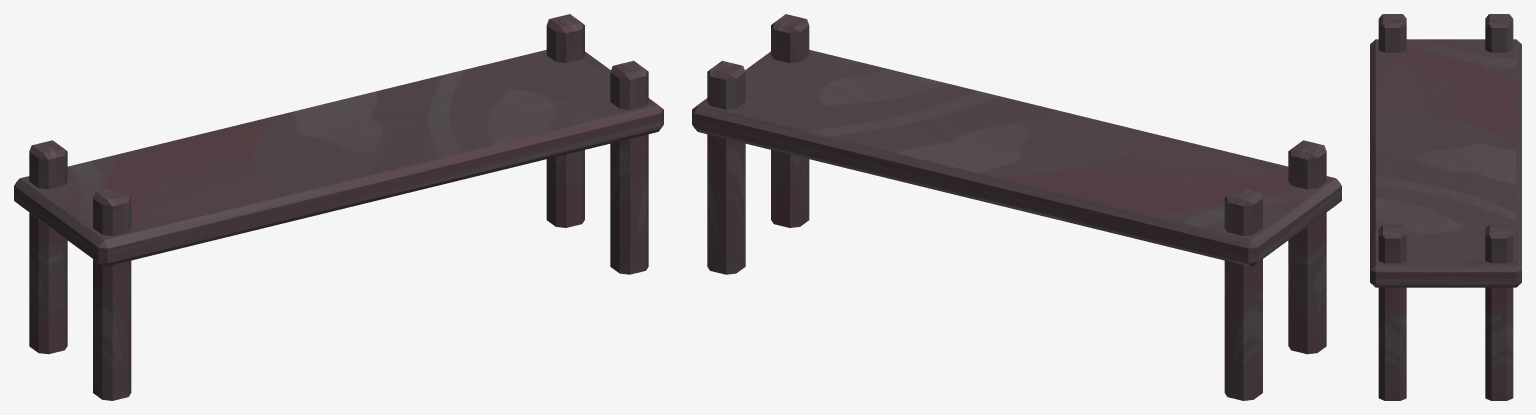
The model's file is Platform_Basic.fbx.
The picture shows the model from 3 angles, left to right: view 1: azimuth 30°, elevation 25°; view 2: azimuth 150°, elevation 25°; view 3: azimuth 270°, elevation 25°; orthographic projection. The views are drawn at different scales.
Visible parts, largest first — view 1: platform_basic; view 2: platform_basic; view 3: platform_basic.
Part boxes in pixels (x1,y1,x2,y2): platform_basic: (14, 14, 663, 400); platform_basic: (692, 14, 1341, 400); platform_basic: (1370, 14, 1521, 400).
Bounding box in the file's own units: 1176 × 396 × 328.
